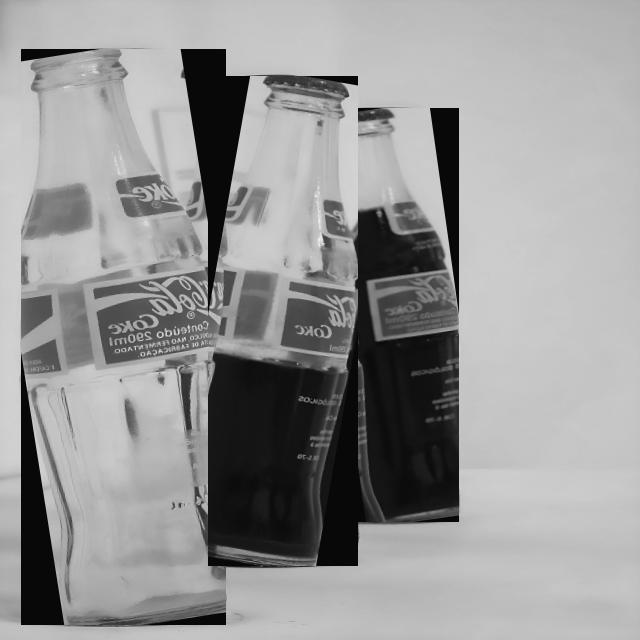Bottle: (20, 49, 224, 625), (207, 76, 357, 566), (338, 108, 458, 522)
